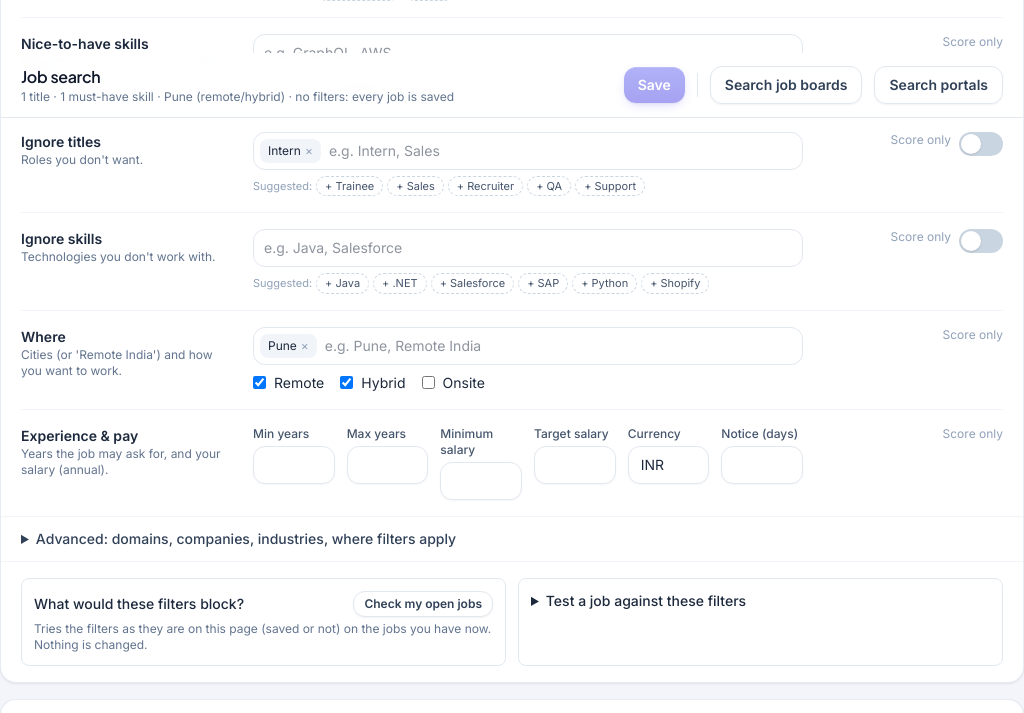
Test: Skills & targets: one job search form › tests one job against the filters
(page scrolled)
Click the heading "Test a job against these filters" at (646, 600), box [546,592,746,608]
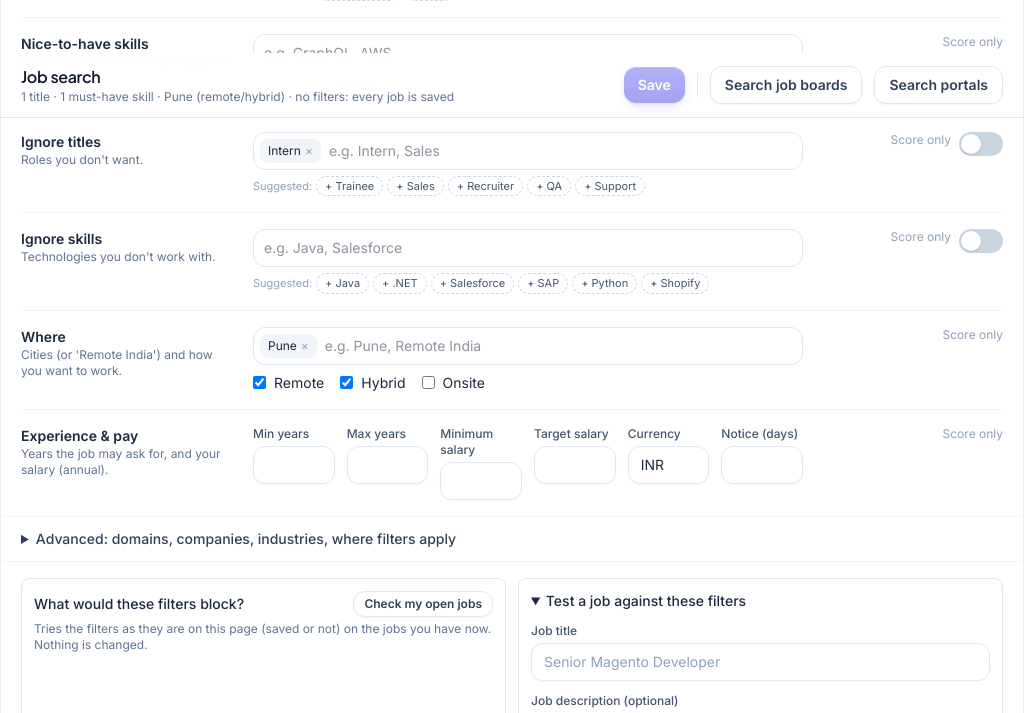
Type "PHP Intern" into the field labelled "Job title" at (760, 662), box [531,642,990,680]
(page scrolled)
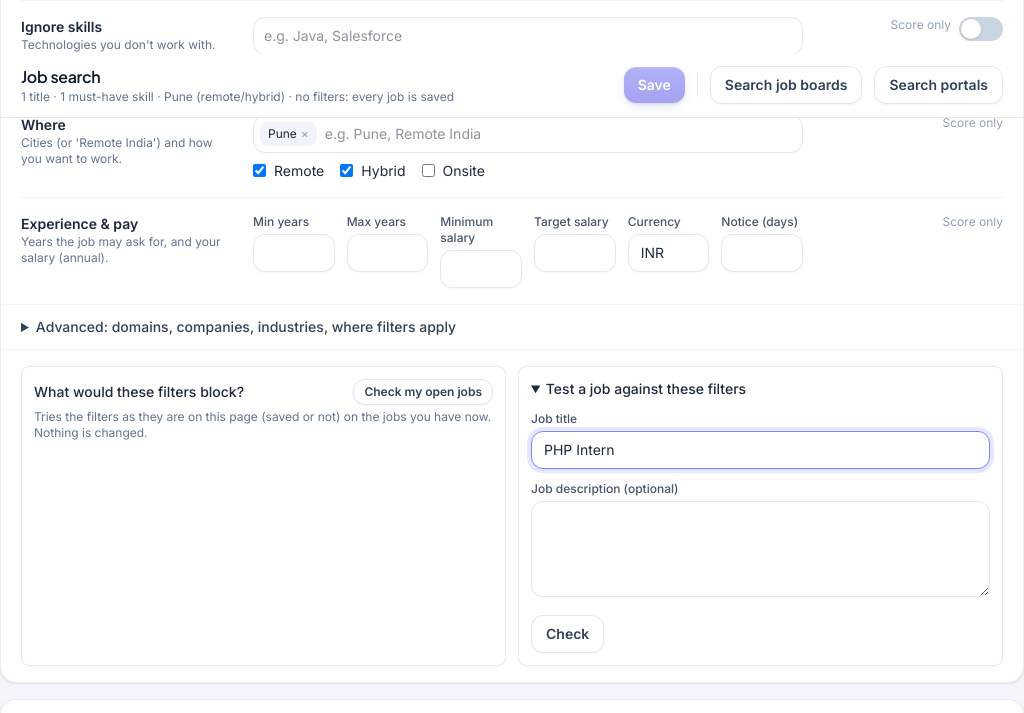
Click the button "Check" at (568, 634), box [531,614,604,652]
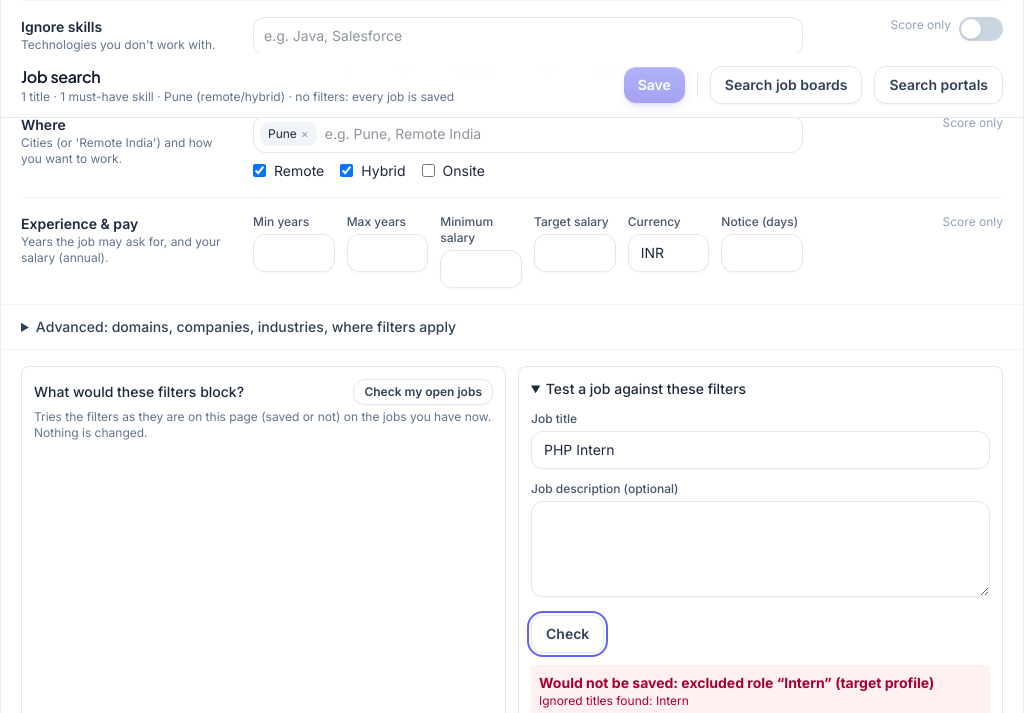
Result: the text "Would not be saved: excluded role “Intern” (target profile)" is shown at [539,674,934,690]
